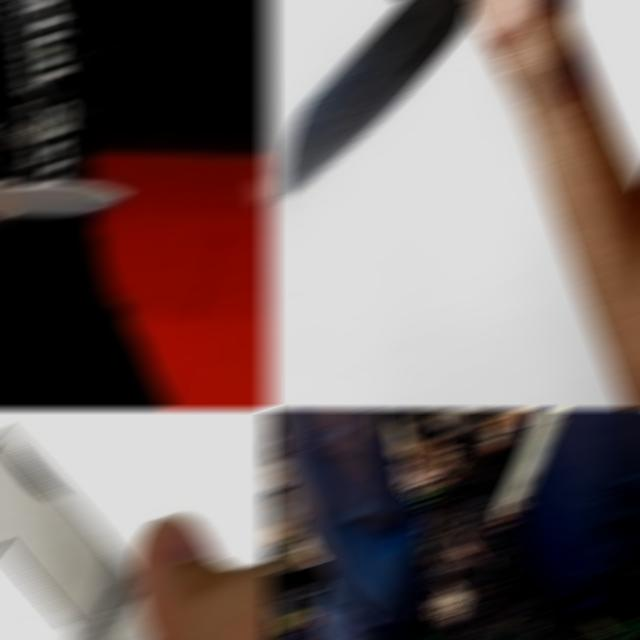Knife: (0, 410, 258, 639), (278, 1, 477, 196), (0, 180, 128, 222)
Knife_Handle: (264, 1, 640, 211), (0, 410, 272, 639), (0, 136, 136, 235)
